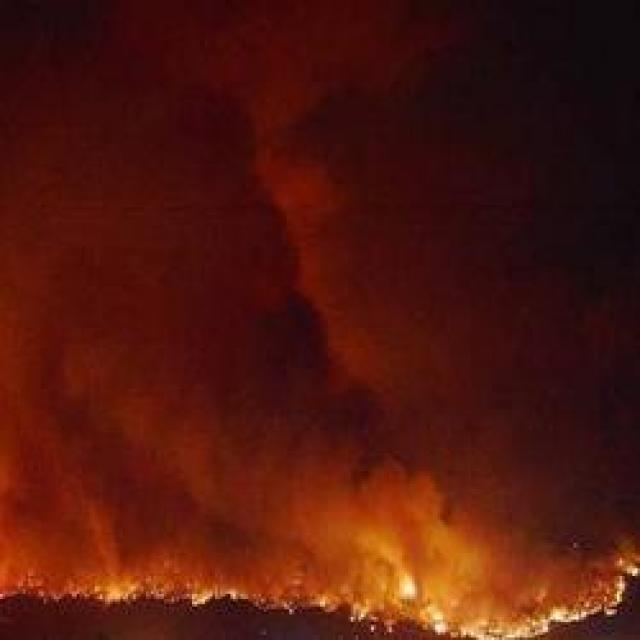fire: (0, 512, 637, 639)
